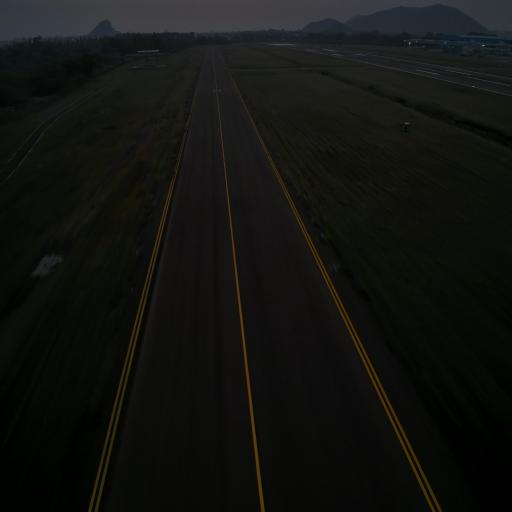on: (134, 246, 140, 258), (320, 230, 326, 241)
